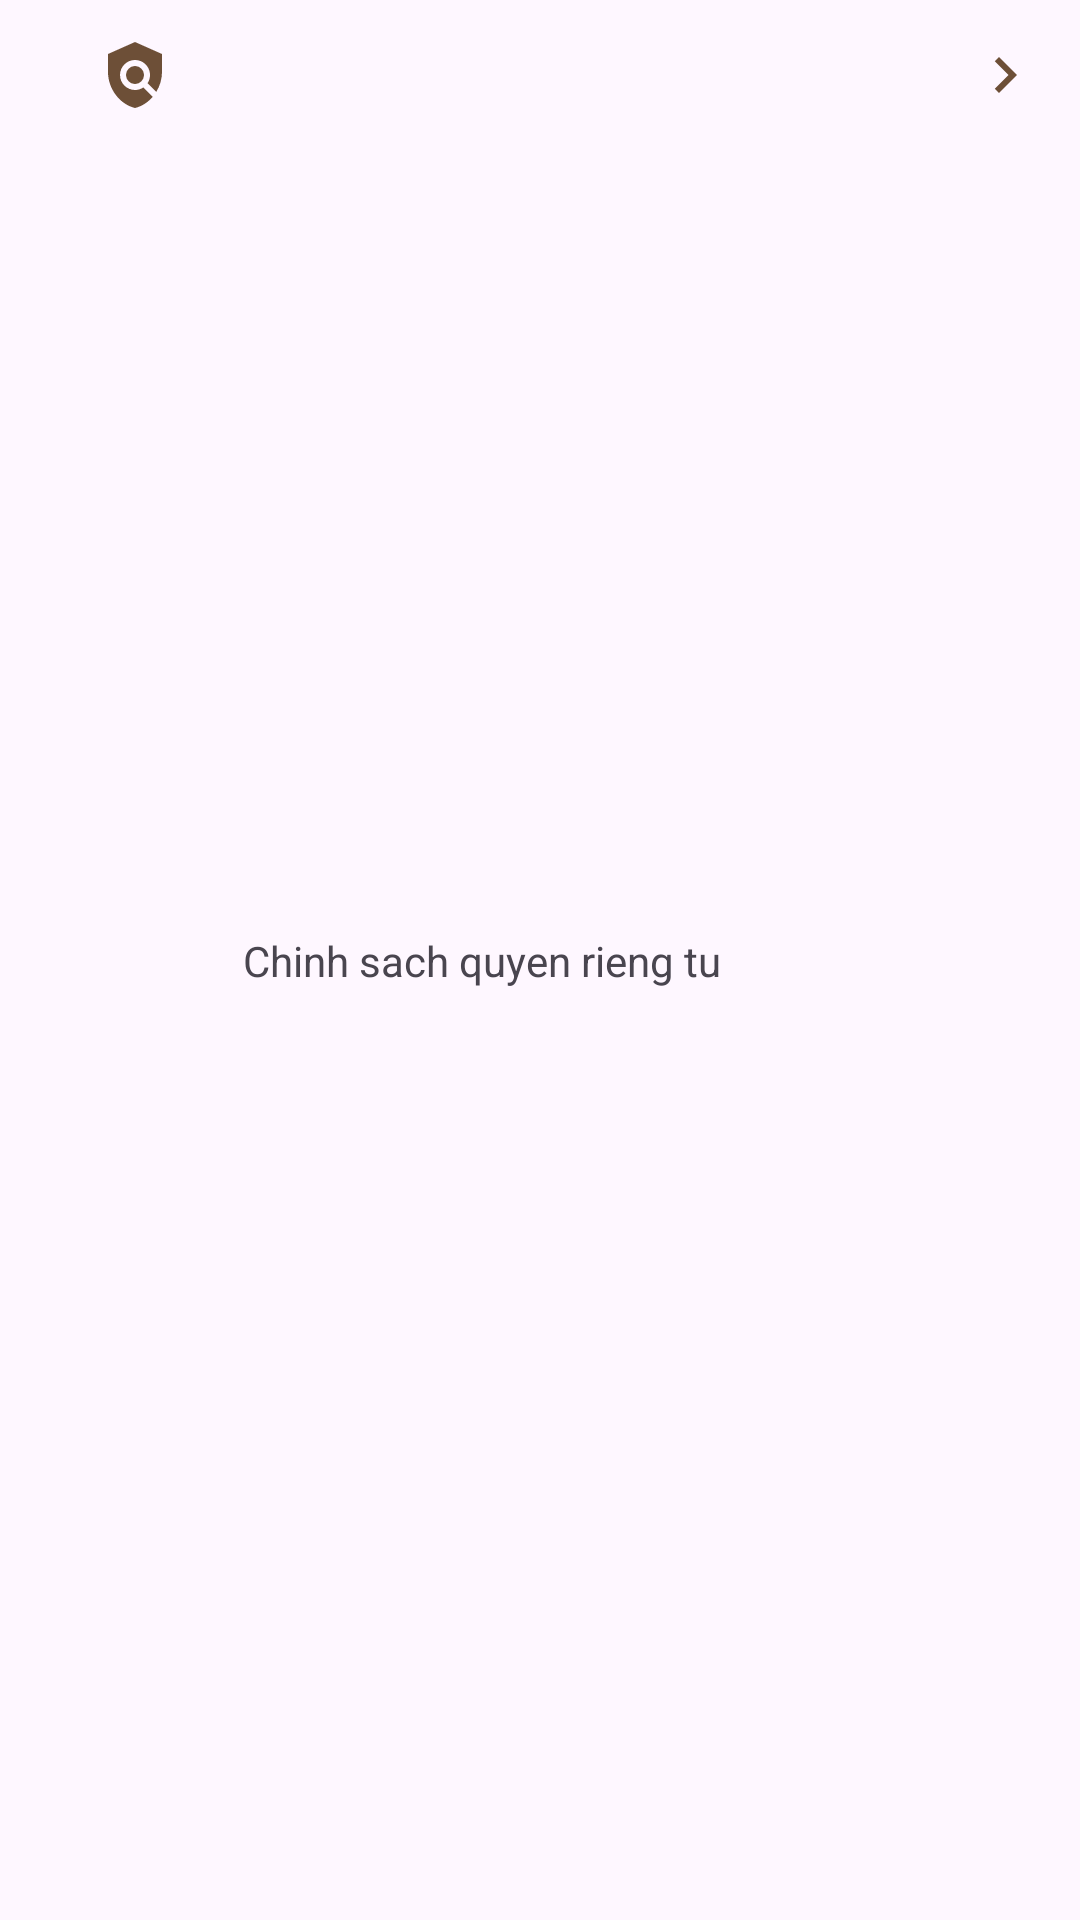

Screen size 1080x1920. Icon name, then its center in pixels as (x,y):
navigate next: (1006,75)
policy: (135,75)
